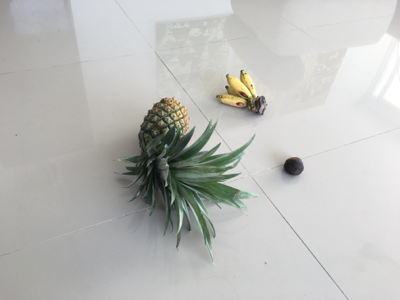banana: (216, 70, 268, 117)
pineapple: (116, 96, 257, 261)
snake fruit: (284, 157, 305, 177)
